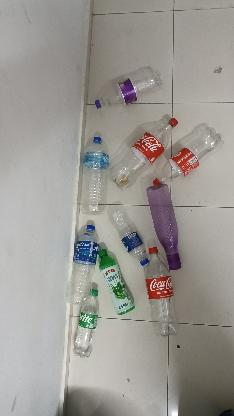Plastic Bottle: (109, 115, 217, 187), (139, 180, 199, 278), (77, 68, 177, 112), (93, 233, 137, 315), (101, 202, 151, 266), (75, 122, 109, 216), (140, 274, 182, 344), (67, 213, 95, 305), (72, 280, 100, 364)
